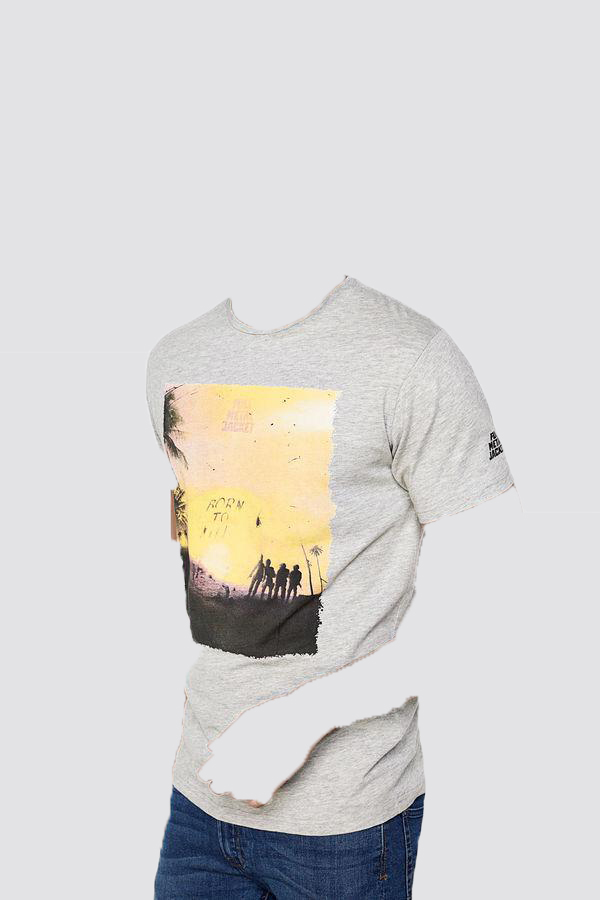teeshirt: (142, 269, 519, 826)
